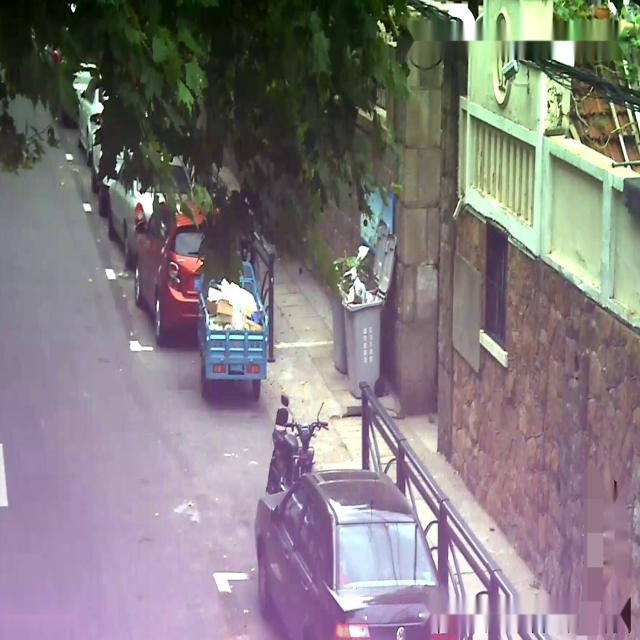car: (196, 252, 269, 397)
